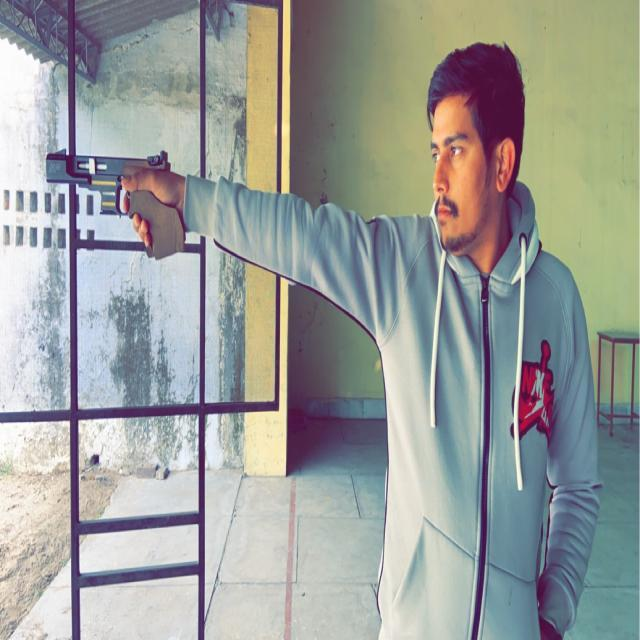Pistol: (43, 142, 192, 270)
